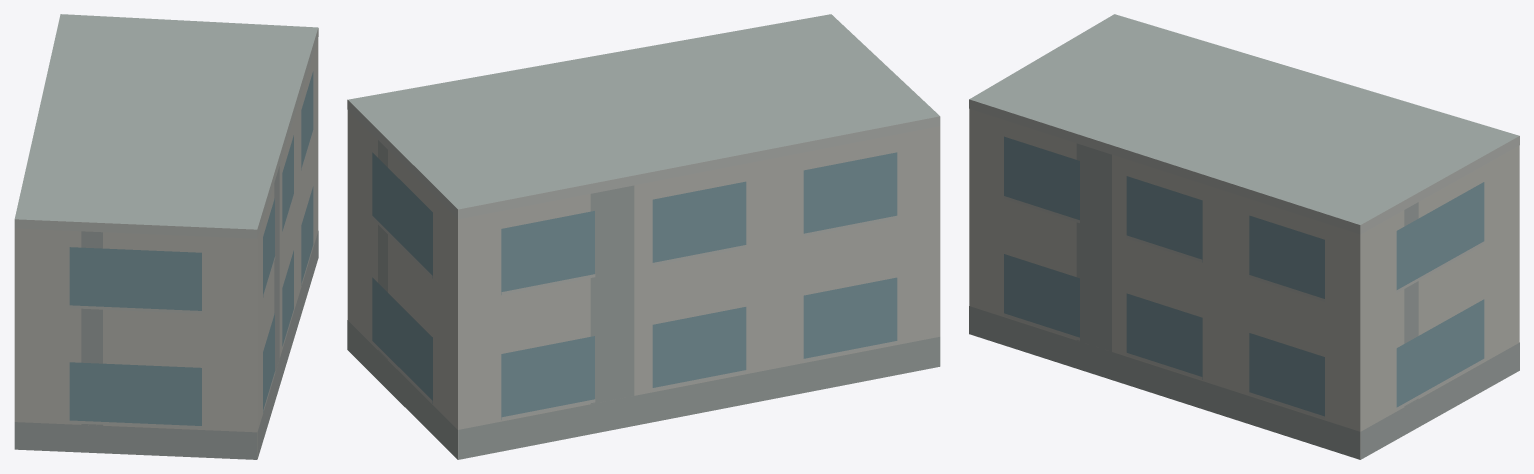
The model's file is survey-upis-32635066.glb.
3 renders of one model, left to right at view 1: azimuth 30°, elevation 25°; view 2: azimuth 150°, elevation 25°; view 3: azimuth 270°, elevation 25°, orthographic. The views are drawn at different scales.
Parts seen in each view (by area): view 1: survey-upis-32635066.tmp; view 2: survey-upis-32635066.tmp; view 3: survey-upis-32635066.tmp.
Part boxes in pixels (x1,y1,x2,y2): survey-upis-32635066.tmp: (14,14,318,459); survey-upis-32635066.tmp: (347,14,940,459); survey-upis-32635066.tmp: (969,14,1519,459).
Bounding box in the file's own units: 11.78 × 6.1 × 12.98.
